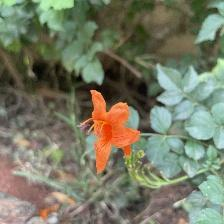honeysuckle: (77, 84, 142, 175)
